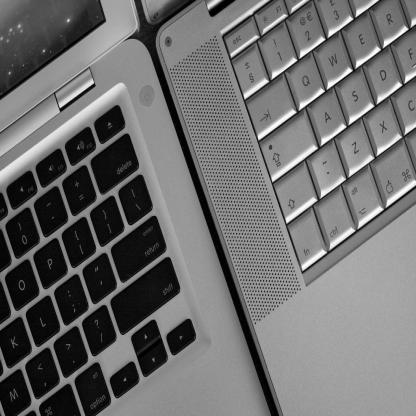board: (141, 0, 416, 415), (0, 0, 269, 415)
